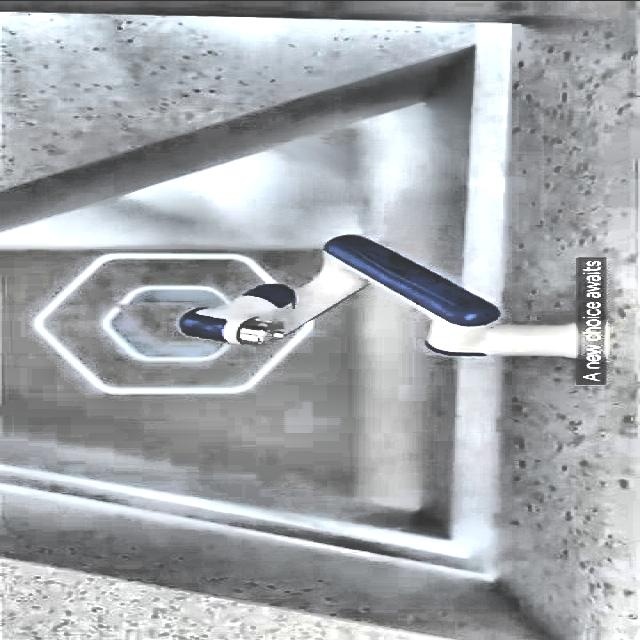robot: (174, 234, 599, 362)
